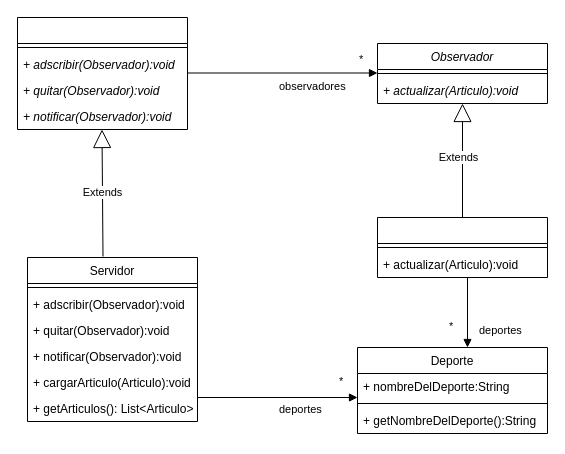
Some shapes in this 565 by 454 pixel diagram are drawn without their labels. Each missing label, with the box of its shape:
AplicacionMovil: (376, 216, 548, 278)
Sujeto: (16, 16, 188, 130)
